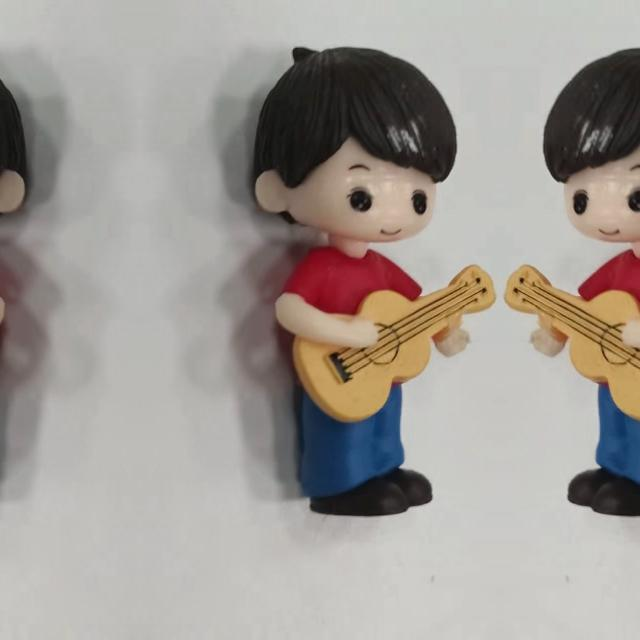man cloth: (272, 250, 450, 386), (550, 249, 640, 386), (0, 249, 7, 386)
man head: (248, 32, 460, 250), (539, 32, 640, 250), (0, 32, 32, 250)
trousers: (294, 384, 452, 528), (548, 384, 640, 527)
